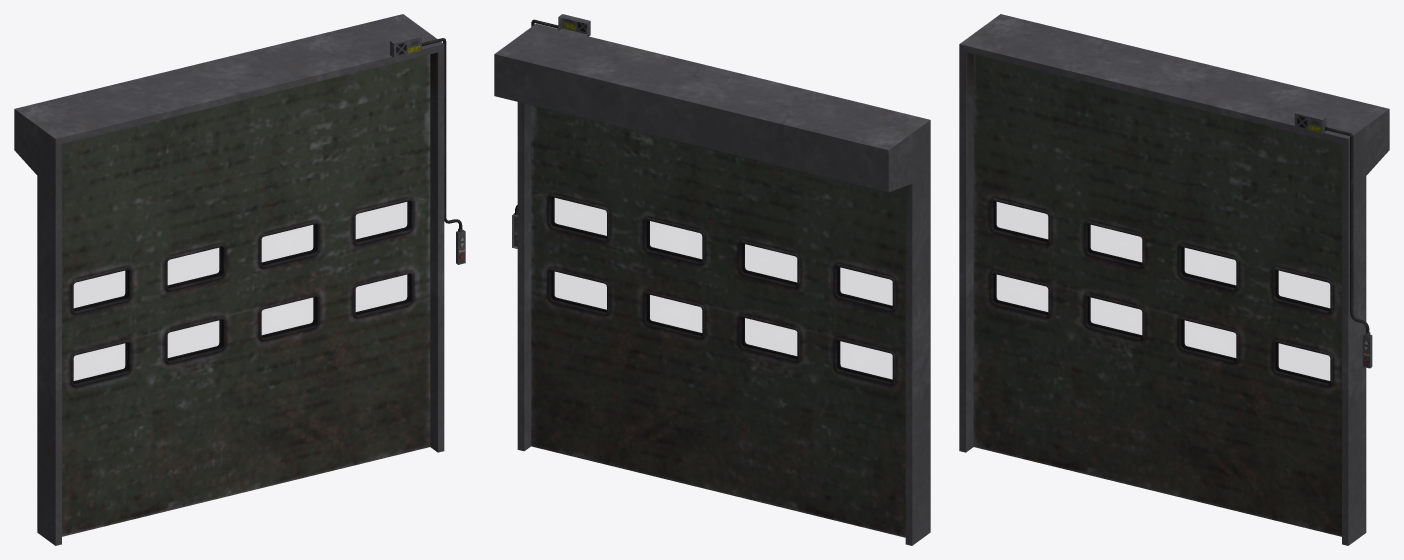
Rendered from Rollup Door 9.glb.
The picture shows the model from 3 angles, left to right: view 1: azimuth 30°, elevation 25°; view 2: azimuth 150°, elevation 25°; view 3: azimuth 330°, elevation 25°; orthographic projection.
Parts seen in each view (by area): view 1: Rollup_Door_9_Door, Rollup_Door_9_Door_Frame, Rollup_Door_9_Control_Switch; view 2: Rollup_Door_9_Door, Rollup_Door_9_Door_Frame, Rollup_Door_9_Control_Switch; view 3: Rollup_Door_9_Door, Rollup_Door_9_Door_Frame, Rollup_Door_9_Control_Switch.
Part boxes in pixels (x1,y1,x2,y2): Rollup_Door_9_Door: [62, 54, 430, 536]; Rollup_Door_9_Door_Frame: [14, 14, 444, 545]; Rollup_Door_9_Control_Switch: [390, 34, 465, 264]; Rollup_Door_9_Door: [531, 105, 905, 537]; Rollup_Door_9_Door_Frame: [494, 23, 930, 545]; Rollup_Door_9_Control_Switch: [512, 14, 590, 248]; Rollup_Door_9_Door: [973, 54, 1341, 536]; Rollup_Door_9_Door_Frame: [959, 14, 1389, 545]; Rollup_Door_9_Control_Switch: [1294, 110, 1372, 368].
Bounding box in the file's own units: 3.17 × 3.1 × 0.5721.
2 materials, 2 textured.
